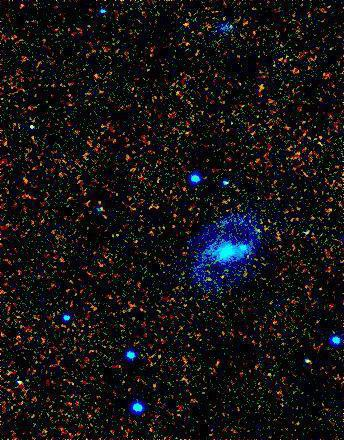star: (231, 233, 261, 263)
